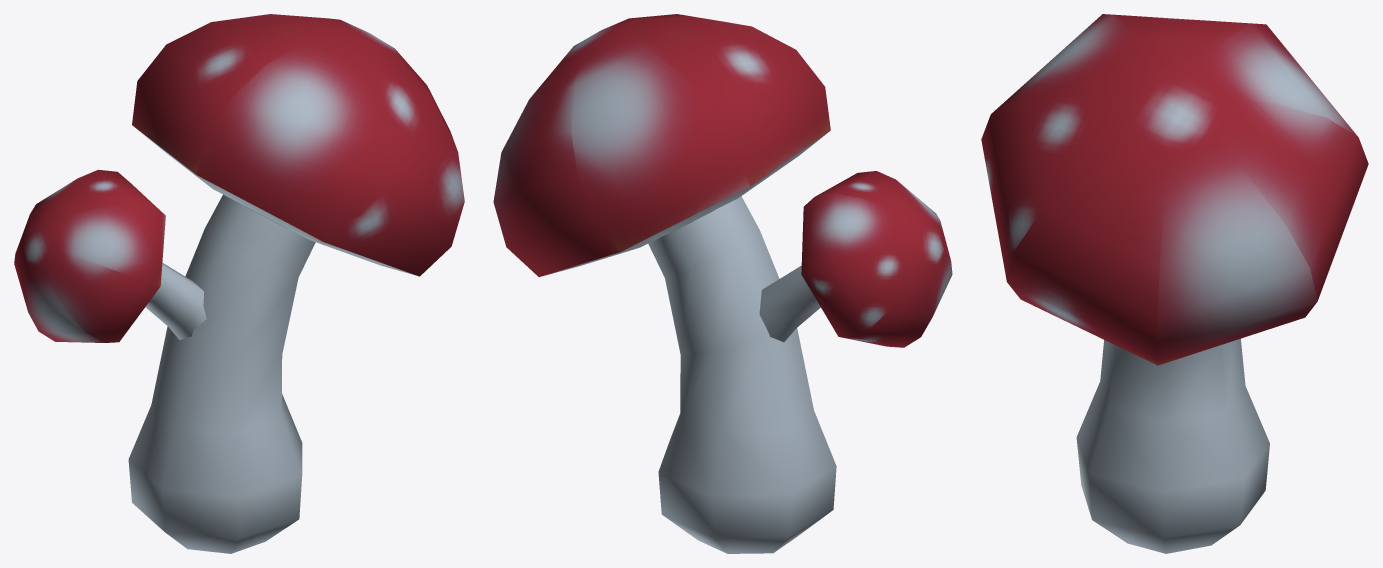
File: MushroomEdible.fbx
3 views of the same model, side by side, from view 1: azimuth 30°, elevation 25°; view 2: azimuth 150°, elevation 25°; view 3: azimuth 270°, elevation 25° (orthographic). The views are drawn at different scales.
Parts seen in each view (by area): view 1: MushroomEdible; view 2: MushroomEdible; view 3: MushroomEdible.
Part boxes in pixels (x1=…): MushroomEdible: x1=14, y1=14, x2=464, y2=553; MushroomEdible: x1=493, y1=14, x2=952, y2=553; MushroomEdible: x1=981, y1=14, x2=1368, y2=553.
Bounding box in the file's own units: 53.65 × 59.76 × 39.13.
1 material, 1 textured.
